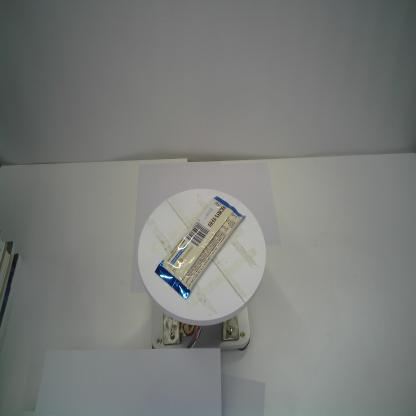Chocolate: (153, 195, 246, 301)
